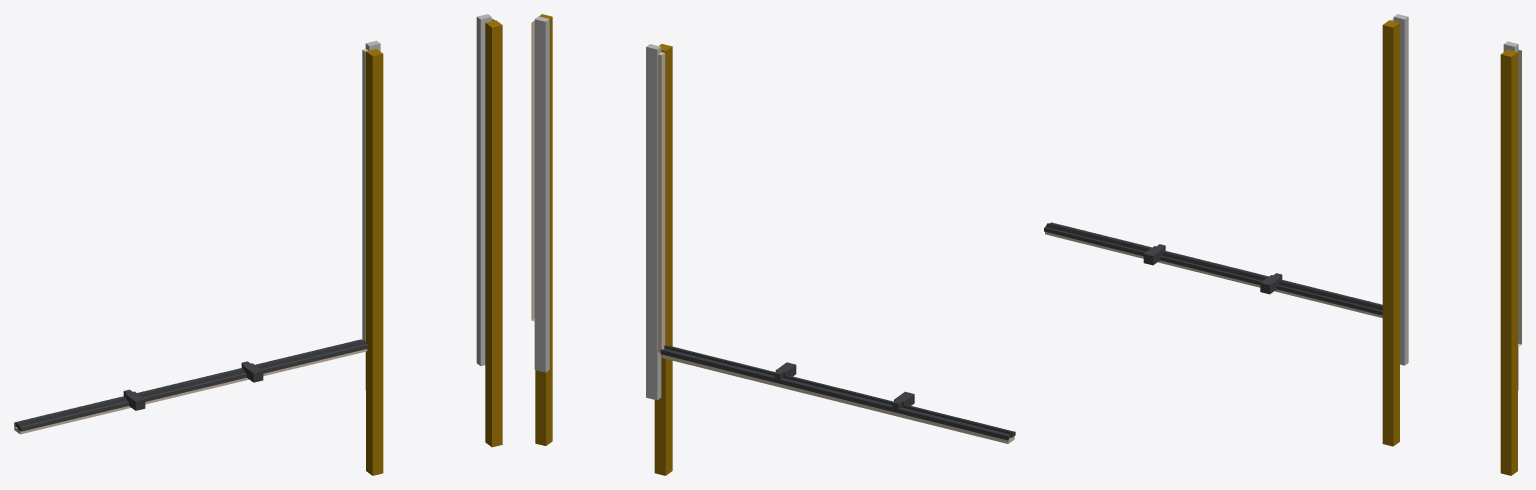
The picture shows the model from 3 angles, left to right: view 1: azimuth 30°, elevation 25°; view 2: azimuth 150°, elevation 25°; view 3: azimuth 330°, elevation 25°; orthographic projection.
Size of the model in its own units: 4.45 by 3.79 by 0.2457.
